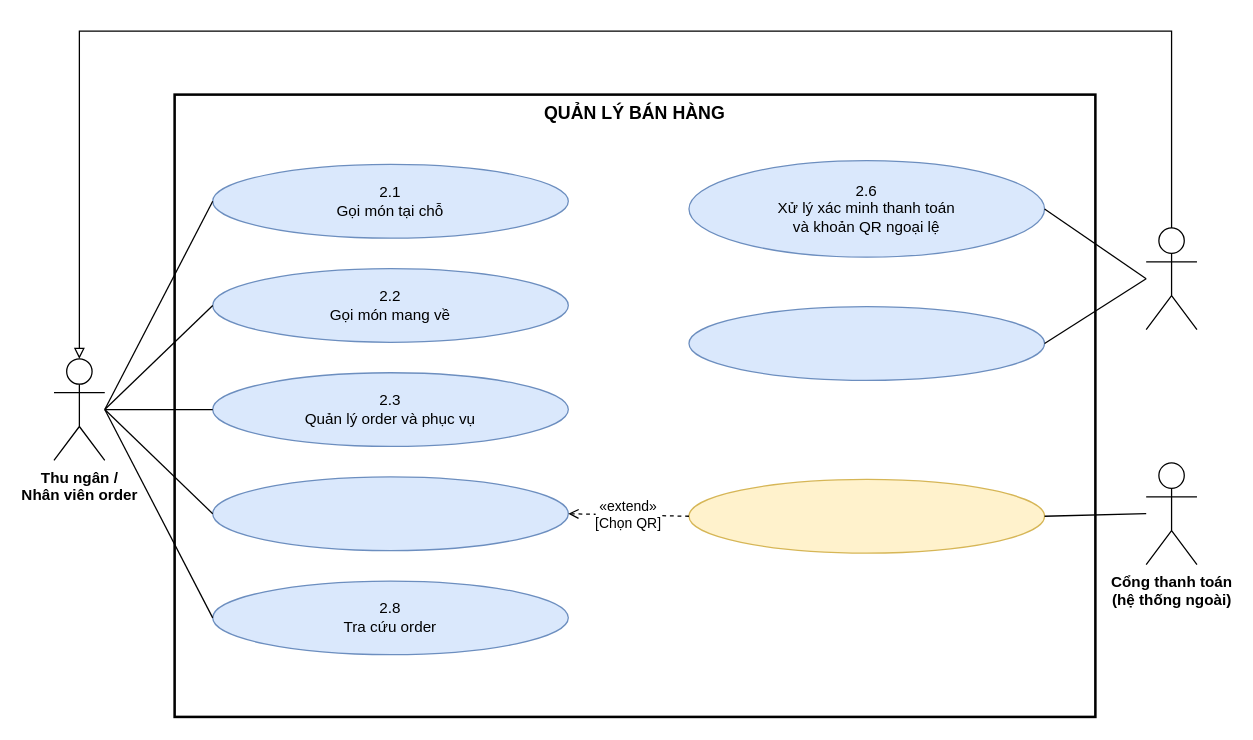
Image size: 1253x740. Some labels were removed from this diagram. Here are the shapes that lost their labels. From the top down, the centre of each, then its label:
point 1171,278: Quản lý
point 866,342: 2.7 Hủy toàn bộ order
point 389,513: 2.4 Thanh toán
point 866,515: 2.5 Thanh toán QR
